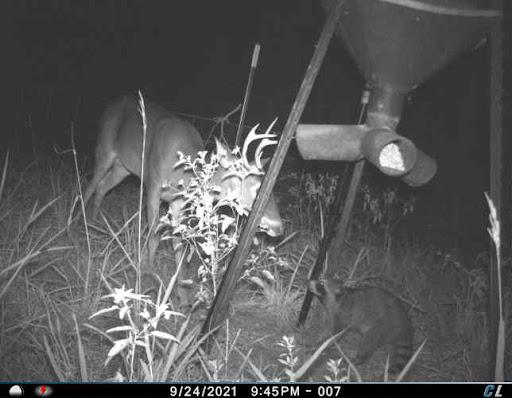Deer: (69, 76, 287, 318)
